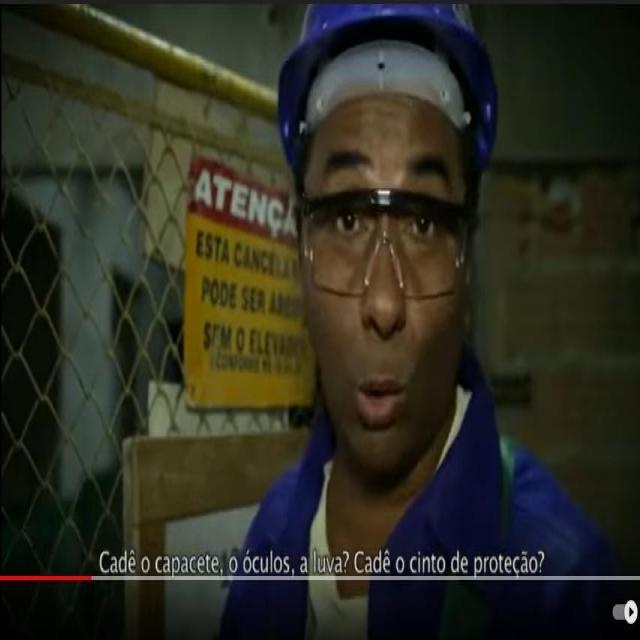NO_Safety_vest: (215, 336, 640, 640)
helmet_OK: (274, 0, 505, 476)
